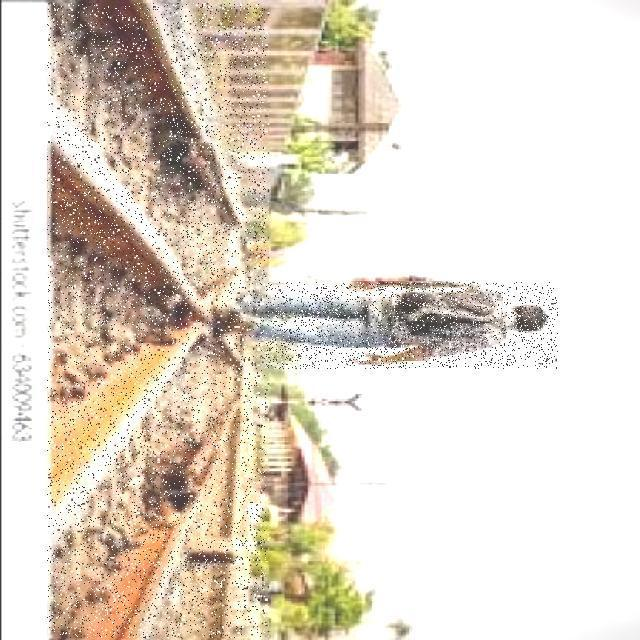danger: (219, 282, 558, 369)
rail: (47, 4, 266, 638)
